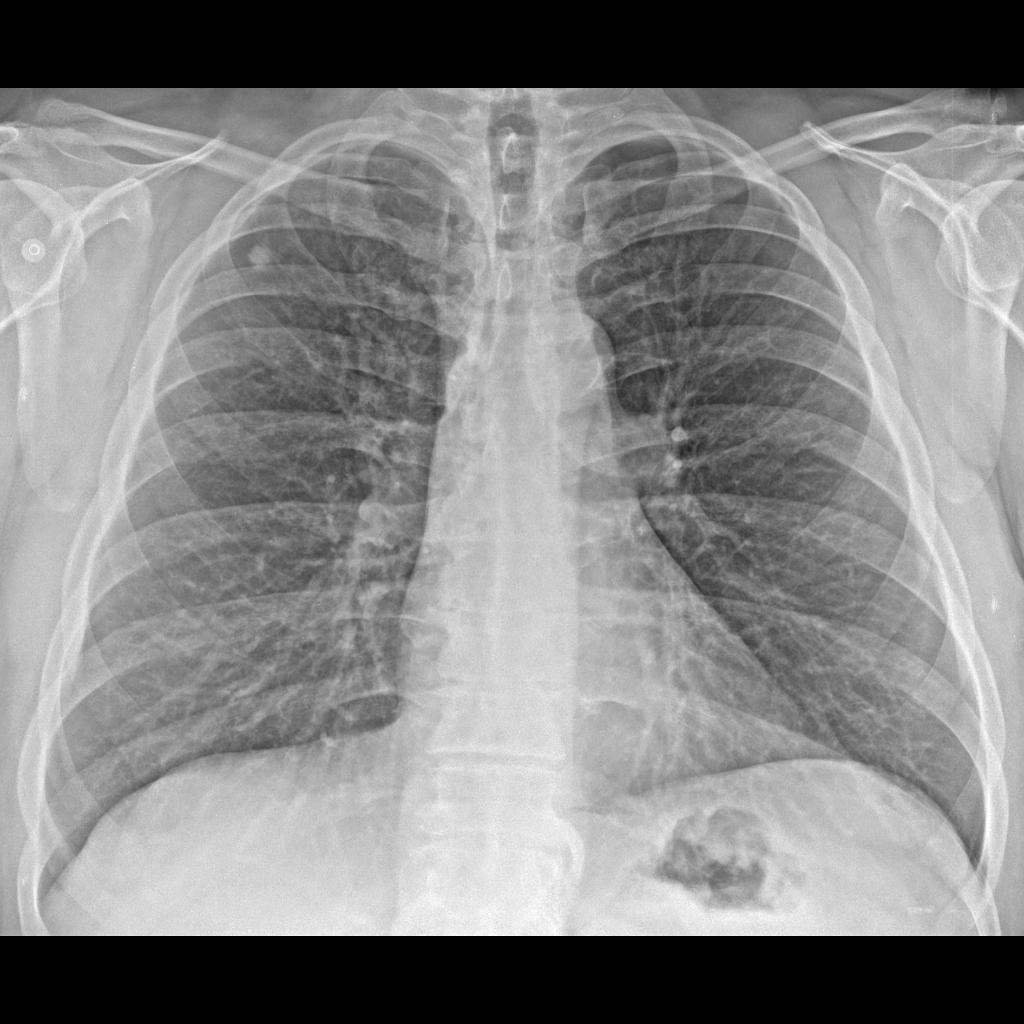Nodule: (245, 242, 280, 280)
